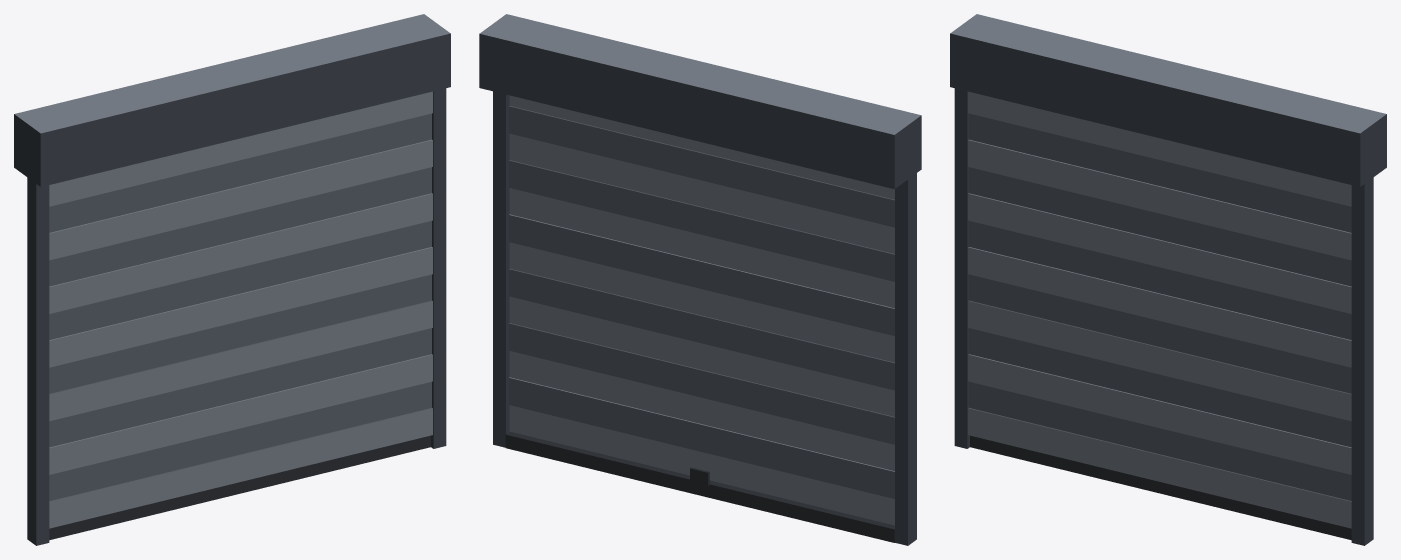
File: Shutter.fbx
3 views of the same model, side by side, from view 1: azimuth 30°, elevation 25°; view 2: azimuth 150°, elevation 25°; view 3: azimuth 330°, elevation 25° (orthographic).
Visible parts, largest first — view 1: Slats, Housing, Bottom; view 2: Slats, Housing, Bottom; view 3: Slats, Housing, Bottom.
Boxes of the visible parts, bbox=[...] form: Slats: bbox=[49, 91, 432, 528]; Housing: bbox=[14, 14, 450, 545]; Bottom: bbox=[49, 435, 430, 540]; Slats: bbox=[509, 95, 894, 525]; Housing: bbox=[479, 14, 921, 545]; Bottom: bbox=[505, 431, 894, 542]; Slats: bbox=[968, 91, 1351, 528]; Housing: bbox=[950, 14, 1386, 545]; Bottom: bbox=[970, 435, 1351, 540].
Bounding box in the file's own units: 3.2 × 3.1 × 0.36.
